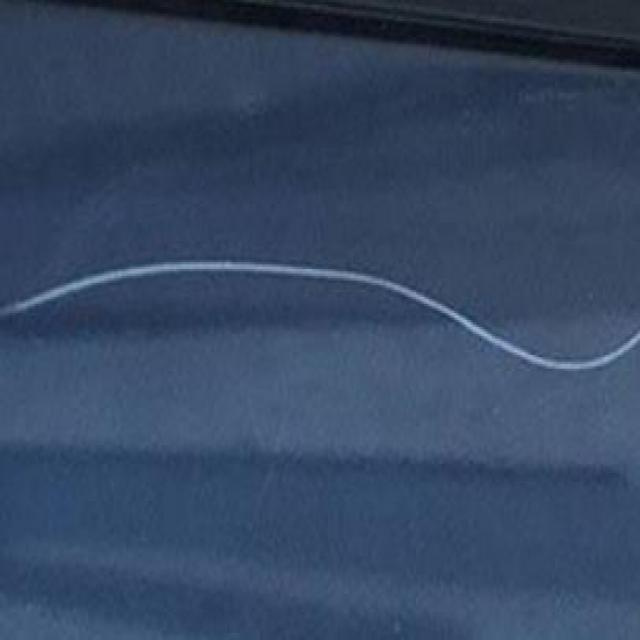scratch: (11, 252, 640, 398)
